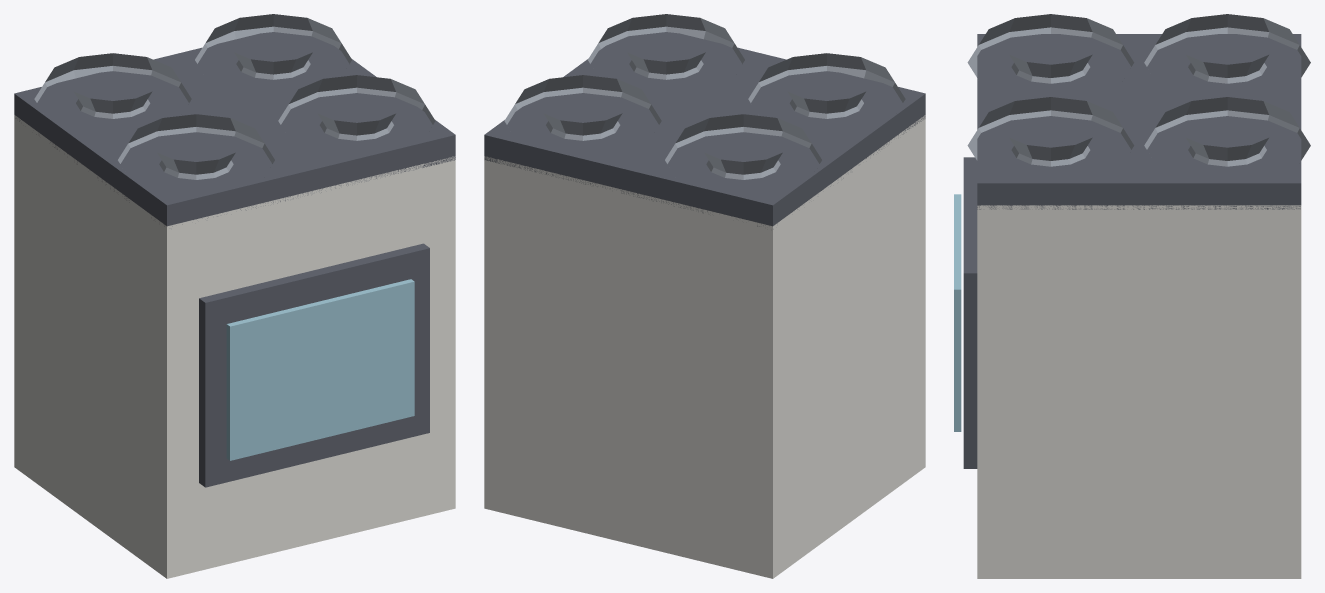
3 renders of one model, left to right at view 1: azimuth 30°, elevation 25°; view 2: azimuth 150°, elevation 25°; view 3: azimuth 270°, elevation 25°, orthographic. The views are drawn at different scales.
Visible parts, largest first — view 1: Body, Cooktop, Window, Oven, Burner.4, Burner.3, Burner.2, Burner.1; view 2: Body, Cooktop, Burner.2, Burner.1, Burner.4, Burner.3; view 3: Body, Cooktop, Oven, Burner.1, Burner.2, Burner.3, Burner.4, Window.
Boxes of the visible parts, x1,y1,x2,y2 form: Body: [14, 115, 455, 578]; Cooktop: [14, 32, 455, 226]; Window: [226, 279, 414, 460]; Oven: [199, 243, 429, 487]; Burner.4: [195, 14, 351, 79]; Burner.3: [34, 53, 191, 118]; Burner.2: [278, 75, 435, 140]; Burner.1: [118, 114, 274, 179]; Body: [484, 115, 925, 578]; Cooktop: [484, 32, 925, 229]; Burner.2: [588, 14, 744, 79]; Burner.1: [748, 53, 905, 118]; Burner.4: [504, 75, 661, 140]; Burner.3: [665, 114, 821, 179]; Body: [977, 205, 1301, 578]; Cooktop: [977, 34, 1301, 209]; Oven: [963, 157, 977, 468]; Burner.1: [967, 14, 1134, 83]; Burner.2: [967, 97, 1134, 166]; Burner.3: [1144, 14, 1310, 83]; Burner.4: [1144, 97, 1310, 166]; Window: [954, 194, 961, 431].
Size of the model in its own units: 0.74 by 0.9412 by 0.7275.
